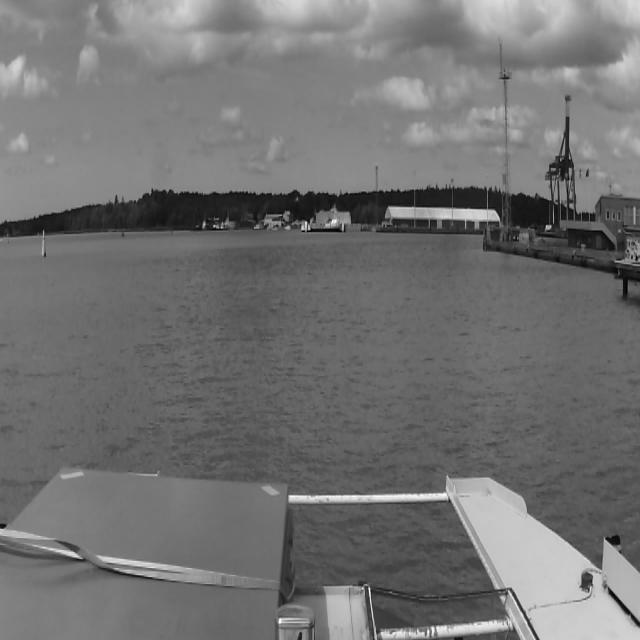buoy: (41, 229, 47, 258), (170, 228, 173, 234)
